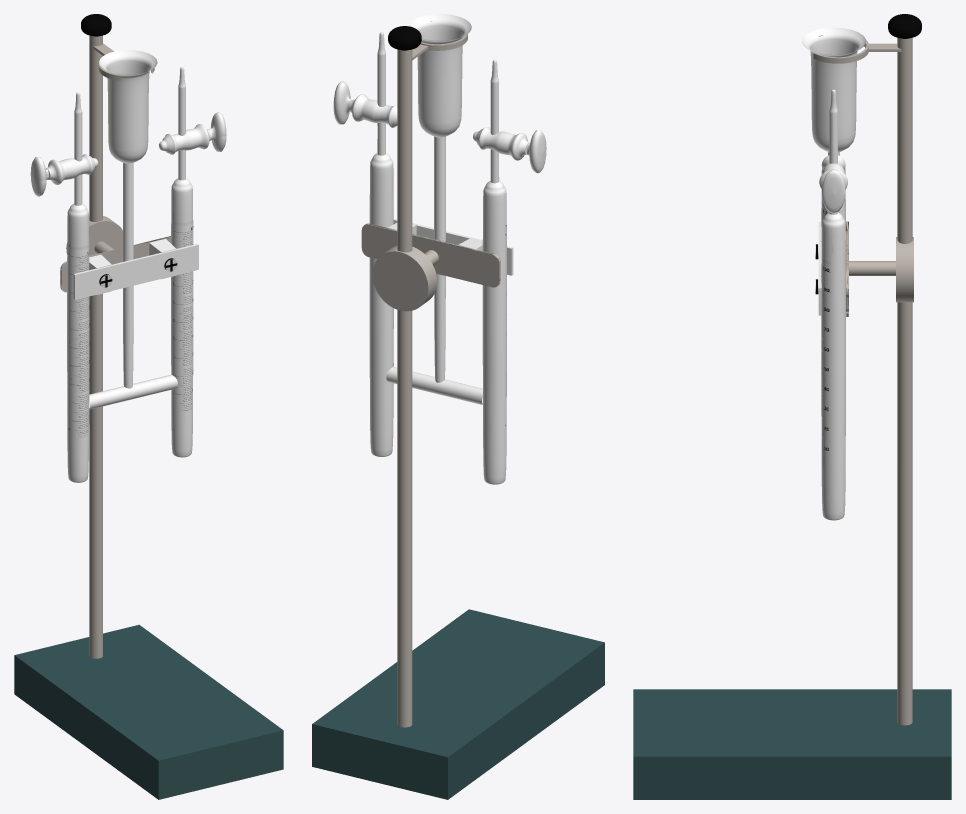
Rendered from an electrolysis device.fbx.
3 views of the same model, side by side, from view 1: azimuth 30°, elevation 25°; view 2: azimuth 150°, elevation 25°; view 3: azimuth 270°, elevation 25° (orthographic). The views are drawn at different scales.
Visible parts, largest first — view 1: 기본값(D9988BDE-61C3-4069-9F35-27462D5CA4F2), 기본값(11FEA912-9392-48CC-A907-75D84444A99C), 기본값(DA3A1721-95B4-4A27-9D49-9BF7086DD667), 실린더(1D081574-BC28-4BDD-BADF-39B408D90961), 실린더(1A19B804-DC6C-438E-9F56-695CCE4CDEFD), Cube, 기본값(D547B2BA-BC28-441C-8014-B53D6FA8F861), 기본값(73F23583-2CFD-477E-AB63-3A17F7CFBCEE), 기본값(4B5D4B02-4140-4DF3-8325-06DEC237509F), 기본값(06AA9241-B5CA-4E01-9B6F-6BF2EDCBEE90), 기본값(1D5A7B31-451D-42DC-8776-9006D713D81B), 기본값(4AE24549-C7DE-4022-934F-CF5A177E6A3E) (+1 smaller); view 2: 기본값(D9988BDE-61C3-4069-9F35-27462D5CA4F2), 기본값(11FEA912-9392-48CC-A907-75D84444A99C), 실린더(1D081574-BC28-4BDD-BADF-39B408D90961), 기본값(DA3A1721-95B4-4A27-9D49-9BF7086DD667), 실린더(1A19B804-DC6C-438E-9F56-695CCE4CDEFD), Cube, 기본값(06AA9241-B5CA-4E01-9B6F-6BF2EDCBEE90), 기본값(D547B2BA-BC28-441C-8014-B53D6FA8F861), 기본값(4B5D4B02-4140-4DF3-8325-06DEC237509F), 기본값(73F23583-2CFD-477E-AB63-3A17F7CFBCEE), 기본값(1D5A7B31-451D-42DC-8776-9006D713D81B), 기본값(4AE24549-C7DE-4022-934F-CF5A177E6A3E) (+1 smaller); view 3: 기본값(D9988BDE-61C3-4069-9F35-27462D5CA4F2), 기본값(11FEA912-9392-48CC-A907-75D84444A99C), 실린더(1A19B804-DC6C-438E-9F56-695CCE4CDEFD), 기본값(DA3A1721-95B4-4A27-9D49-9BF7086DD667), 기본값(06AA9241-B5CA-4E01-9B6F-6BF2EDCBEE90), 기본값(E1F51B17-EA98-4D5B-9457-648D081CFE62), 기본값(1D5A7B31-451D-42DC-8776-9006D713D81B), 기본값(296F9BE6-9E19-415E-9F50-C76B1F596F1D), Cube.
Part boxes in pixels (left/top/right/bottom): 기본값(D9988BDE-61C3-4069-9F35-27462D5CA4F2): left=14, top=624, right=283, bottom=799; 기본값(11FEA912-9392-48CC-A907-75D84444A99C): left=89, top=35, right=154, bottom=658; 기본값(DA3A1721-95B4-4A27-9D49-9BF7086DD667): left=99, top=50, right=157, bottom=388; 실린더(1D081574-BC28-4BDD-BADF-39B408D90961): left=67, top=92, right=89, bottom=482; 실린더(1A19B804-DC6C-438E-9F56-695CCE4CDEFD): left=171, top=67, right=193, bottom=457; Cube: left=60, top=236, right=198, bottom=299; 기본값(D547B2BA-BC28-441C-8014-B53D6FA8F861): left=89, top=374, right=177, bottom=409; 기본값(73F23583-2CFD-477E-AB63-3A17F7CFBCEE): left=159, top=124, right=212, bottom=154; 기본값(4B5D4B02-4140-4DF3-8325-06DEC237509F): left=46, top=154, right=98, bottom=184; 기본값(06AA9241-B5CA-4E01-9B6F-6BF2EDCBEE90): left=66, top=216, right=122, bottom=255; 기본값(1D5A7B31-451D-42DC-8776-9006D713D81B): left=81, top=14, right=111, bottom=36; 기본값(4AE24549-C7DE-4022-934F-CF5A177E6A3E): left=30, top=157, right=48, bottom=196; 기본값(D9988BDE-61C3-4069-9F35-27462D5CA4F2): left=312, top=609, right=604, bottom=799; 기본값(11FEA912-9392-48CC-A907-75D84444A99C): left=397, top=21, right=467, bottom=727; 실린더(1D081574-BC28-4BDD-BADF-39B408D90961): left=482, top=59, right=506, bottom=484; 기본값(DA3A1721-95B4-4A27-9D49-9BF7086DD667): left=408, top=14, right=471, bottom=382; 실린더(1A19B804-DC6C-438E-9F56-695CCE4CDEFD): left=369, top=32, right=393, bottom=456; Cube: left=361, top=218, right=513, bottom=287; 기본값(06AA9241-B5CA-4E01-9B6F-6BF2EDCBEE90): left=372, top=246, right=437, bottom=311; 기본값(D547B2BA-BC28-441C-8014-B53D6FA8F861): left=386, top=367, right=482, bottom=404; 기본값(4B5D4B02-4140-4DF3-8325-06DEC237509F): left=473, top=127, right=529, bottom=160; 기본값(73F23583-2CFD-477E-AB63-3A17F7CFBCEE): left=348, top=94, right=397, bottom=127; 기본값(1D5A7B31-451D-42DC-8776-9006D713D81B): left=388, top=26, right=421, bottom=50; 기본값(4AE24549-C7DE-4022-934F-CF5A177E6A3E): left=526, top=130, right=546, bottom=173; 기본값(D9988BDE-61C3-4069-9F35-27462D5CA4F2): left=633, top=689, right=951, bottom=799; 기본값(11FEA912-9392-48CC-A907-75D84444A99C): left=813, top=35, right=912, bottom=725; 실린더(1A19B804-DC6C-438E-9F56-695CCE4CDEFD): left=821, top=89, right=845, bottom=520; 기본값(DA3A1721-95B4-4A27-9D49-9BF7086DD667): left=802, top=27, right=865, bottom=212; 기본값(06AA9241-B5CA-4E01-9B6F-6BF2EDCBEE90): left=896, top=237, right=913, bottom=302; 기본값(E1F51B17-EA98-4D5B-9457-648D081CFE62): left=821, top=169, right=845, bottom=213; 기본값(1D5A7B31-451D-42DC-8776-9006D713D81B): left=888, top=14, right=921, bottom=38; 기본값(296F9BE6-9E19-415E-9F50-C76B1F596F1D): left=849, top=261, right=895, bottom=275; Cube: left=818, top=221, right=848, bottom=316.
Bounding box in the file's own units: 159 × 544 × 210.
